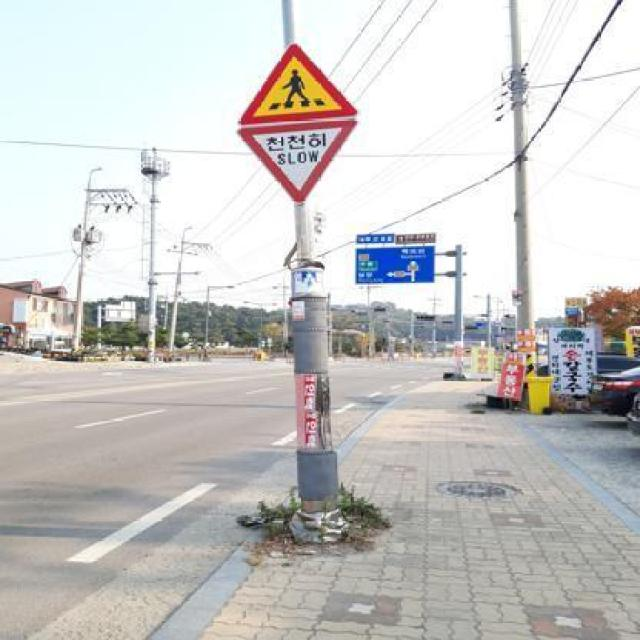pole: (275, 214, 363, 555)
